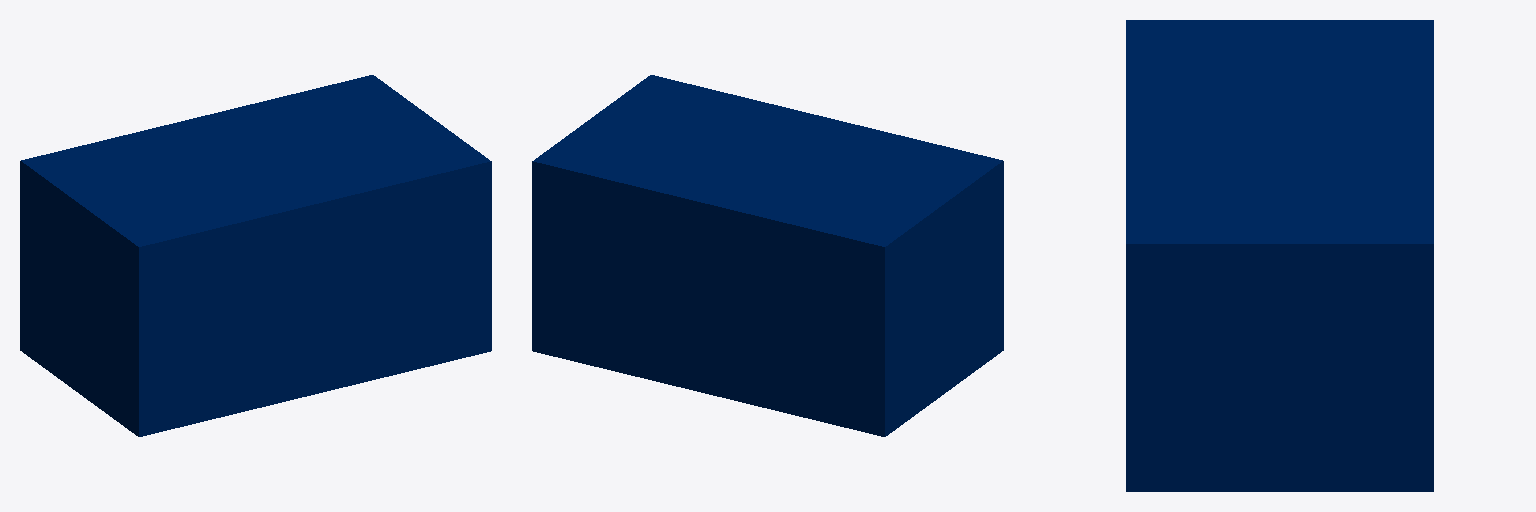
URDF robot description (model.urdf):
<?xml version="0.0" ?>
<robot name="model.urdf">

	<material name="navy_blue">
		<color rgba="0 0.18 0.42 1"/>
	</material>

	<link name="baseLink">
		<inertial>
			<mass value="0.120"/>
			<inertia  ixx="0.00012913" ixy="0.00"  ixz="0.00" iyy="0.0003242" iyz="0.00" izz="0.0003948" />
		</inertial>
		<visual>
			<origin xyz="0 0 0" rpy="0 0 0"/>
			<geometry>
				<box size="0.165 0.096 0.085"/>
			</geometry>
			<material name="navy_blue"/>
		</visual>
		<collision>
			<origin xyz="0 0 0" rpy="0 0 0"/>
			<geometry>
				<box size="0.165 0.096 0.085"/>
			</geometry>
		</collision>
	</link>
</robot>

--- Render facts (derived) ---
Views: 3 orthographic renders of the robot side by side, from view 1: azimuth 30°, elevation 25°; view 2: azimuth 150°, elevation 25°; view 3: azimuth 270°, elevation 25°.
Robot: model.urdf — 1 links, 0 joints (none); root link baseLink; default pose: all joints at 0.
Visible links, largest first — view 1: baseLink; view 2: baseLink; view 3: baseLink.
Boxes of the visible links, bbox=[...] form: baseLink: bbox=[20, 75, 491, 436]; baseLink: bbox=[532, 75, 1003, 436]; baseLink: bbox=[1126, 20, 1433, 491].
Size in the robot's own frame: 0.165 by 0.096 by 0.085 metres.
Geometry: primitives only (box / cylinder / sphere), no mesh files.